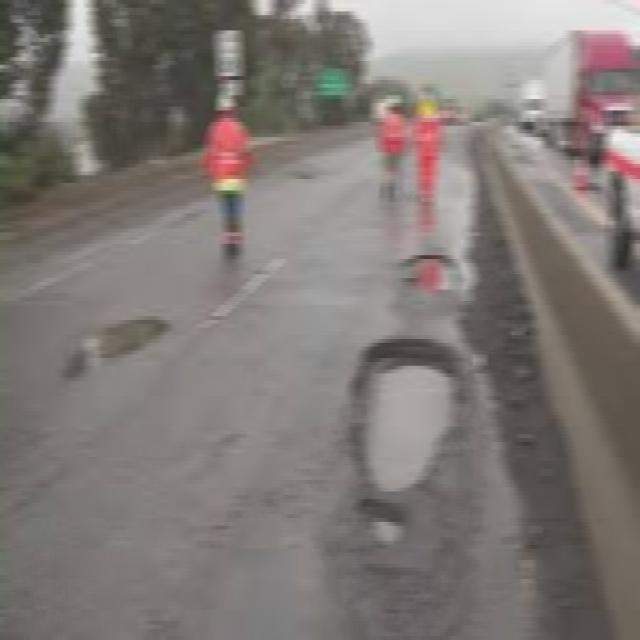Pothole: (341, 335, 472, 491), (51, 304, 178, 387), (390, 248, 466, 320), (354, 498, 419, 552)
